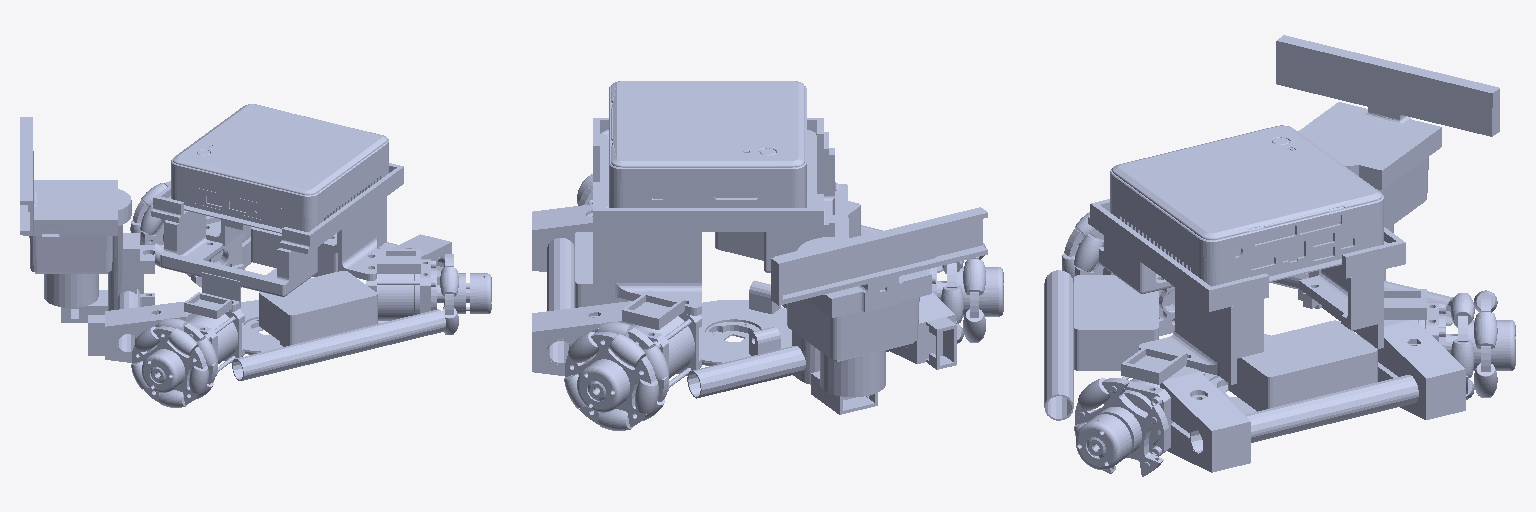
robot.urdf — Whole Assembly:
<robot
  name="Whole Assembly">
  <link
    name="base_link">
    <inertial>
      <origin
        xyz="0.0638554476046769 0.154475820116881 0.222501327939939"
        rpy="0 0 0" />
      <mass
        value="1.29592946821914" />
      <inertia
        ixx="0.00568023707434862"
        ixy="0.000808118972210758"
        ixz="-0.00144339416429348"
        iyy="0.0116850361537454"
        iyz="0.000480770398514847"
        izz="0.00735454491294569" />
    </inertial>
    <visual>
      <origin
        xyz="0 0 0"
        rpy="0 0 0" />
      <geometry>
        <mesh
          filename="package://Whole Assembly/meshes/base_link.STL" />
      </geometry>
      <material
        name="">
        <color
          rgba="0.792156862745098 0.819607843137255 0.933333333333333 1" />
      </material>
    </visual>
    <collision>
      <origin
        xyz="0 0 0"
        rpy="0 0 0" />
      <geometry>
        <mesh
          filename="package://Whole Assembly/meshes/base_link.STL" />
      </geometry>
    </collision>
  </link>
  <link
    name="left_wheel">
    <inertial>
      <origin
        xyz="-6.04154980204941E-06 6.20803409043247E-06 -0.0362458993719677"
        rpy="0 0 0" />
      <mass
        value="0.0995468684529498" />
      <inertia
        ixx="4.20625938308922E-05"
        ixy="1.35251448692862E-08"
        ixz="-7.15122019200012E-09"
        iyy="4.20428681773424E-05"
        iyz="3.57738215015573E-08"
        izz="1.12114291630535E-05" />
    </inertial>
    <visual>
      <origin
        xyz="0 0 0"
        rpy="0 0 0" />
      <geometry>
        <mesh
          filename="package://Whole Assembly/meshes/left_wheel.STL" />
      </geometry>
      <material
        name="">
        <color
          rgba="0.792156862745098 0.819607843137255 0.933333333333333 1" />
      </material>
    </visual>
    <collision>
      <origin
        xyz="0 0 0"
        rpy="0 0 0" />
      <geometry>
        <mesh
          filename="package://Whole Assembly/meshes/left_wheel.STL" />
      </geometry>
    </collision>
  </link>
  <joint
    name="left wheel"
    type="fixed">
    <origin
      xyz="0.017195 -0.27041 0.14034"
      rpy="1.5708 -8.3973E-15 2.0944" />
    <parent
      link="base_link" />
    <child
      link="left_wheel" />
    <axis
      xyz="0 0 0" />
  </joint>
  <link
    name="right_wheel">
    <inertial>
      <origin
        xyz="2.57022985142297E-06 -5.74121017320184E-06 -0.0257131909431065"
        rpy="0 0 0" />
      <mass
        value="0.099488750293331" />
      <inertia
        ixx="4.20261580780586E-05"
        ixy="6.09357730967834E-12"
        ixz="9.84568961653912E-09"
        iyy="4.20261519967804E-05"
        iyz="-1.69812520895341E-08"
        izz="1.11779569543743E-05" />
    </inertial>
    <visual>
      <origin
        xyz="0 0 0"
        rpy="0 0 0" />
      <geometry>
        <mesh
          filename="package://Whole Assembly/meshes/right_wheel.STL" />
      </geometry>
      <material
        name="">
        <color
          rgba="0.792156862745098 0.819607843137255 0.933333333333333 1" />
      </material>
    </visual>
    <collision>
      <origin
        xyz="0 0 0"
        rpy="0 0 0" />
      <geometry>
        <mesh
          filename="package://Whole Assembly/meshes/right_wheel.STL" />
      </geometry>
    </collision>
  </link>
  <joint
    name="right wheel"
    type="fixed">
    <origin
      xyz="0.081346 -0.097344 0.14033"
      rpy="1.5708 0.47063 -3.1416" />
    <parent
      link="base_link" />
    <child
      link="right_wheel" />
    <axis
      xyz="0 0 0" />
  </joint>
  <link
    name="back_wheel">
    <inertial>
      <origin
        xyz="3.05127464295119E-07 -6.13884576960988E-06 -0.0366979928121696"
        rpy="0 0 0" />
      <mass
        value="0.10184441592474" />
      <inertia
        ixx="4.35449117522311E-05"
        ixy="-8.30713187677746E-13"
        ixz="1.06249080903332E-09"
        iyy="4.35448994543233E-05"
        iyz="1.9884396777327E-08"
        izz="1.22507718788548E-05" />
    </inertial>
    <visual>
      <origin
        xyz="0 0 0"
        rpy="0 0 0" />
      <geometry>
        <mesh
          filename="package://Whole Assembly/meshes/back_wheel.STL" />
      </geometry>
      <material
        name="">
        <color
          rgba="0.792156862745098 0.819607843137255 0.933333333333333 1" />
      </material>
    </visual>
    <collision>
      <origin
        xyz="0 0 0"
        rpy="0 0 0" />
      <geometry>
        <mesh
          filename="package://Whole Assembly/meshes/back_wheel.STL" />
      </geometry>
    </collision>
  </link>
  <joint
    name="back wheel"
    type="fixed">
    <origin
      xyz="0.145497469714244 -0.2704086452264 0.140355505866654"
      rpy="-1.5707963267949 5.30270106022979E-17 1.04719755119651" />
    <parent
      link="base_link" />
    <child
      link="back_wheel" />
    <axis
      xyz="0 0 0" />
  </joint>
</robot>

--- Render facts (derived) ---
The picture shows the robot from 3 angles, left to right: view 1: azimuth 30°, elevation 25°; view 2: azimuth 150°, elevation 25°; view 3: azimuth 270°, elevation 25°; orthographic projection.
Robot: Whole Assembly — 4 links, 3 joints (3 fixed); root link base_link; default pose: every joint at zero.
Visible links, largest first — view 1: base_link, left_wheel, back_wheel, right_wheel; view 2: base_link, right_wheel, left_wheel; view 3: base_link, back_wheel, right_wheel, left_wheel.
Link boxes in pixels (x1,y1,x2,y2): base_link: (20,104,451,380); left_wheel: (131,309,244,407); back_wheel: (366,254,491,334); right_wheel: (130,181,244,287); base_link: (532,81,987,414); right_wheel: (564,313,701,430); left_wheel: (926,243,1003,343); base_link: (1044,35,1499,472); back_wheel: (1074,371,1204,476); right_wheel: (1359,290,1515,399); left_wheel: (1062,212,1174,335).
Bounding box of the posed robot: 0.319 × 0.2564 × 0.1355 m (x, y, z).
4 mesh visuals loaded from 4 distinct referenced files (4 binary STL).